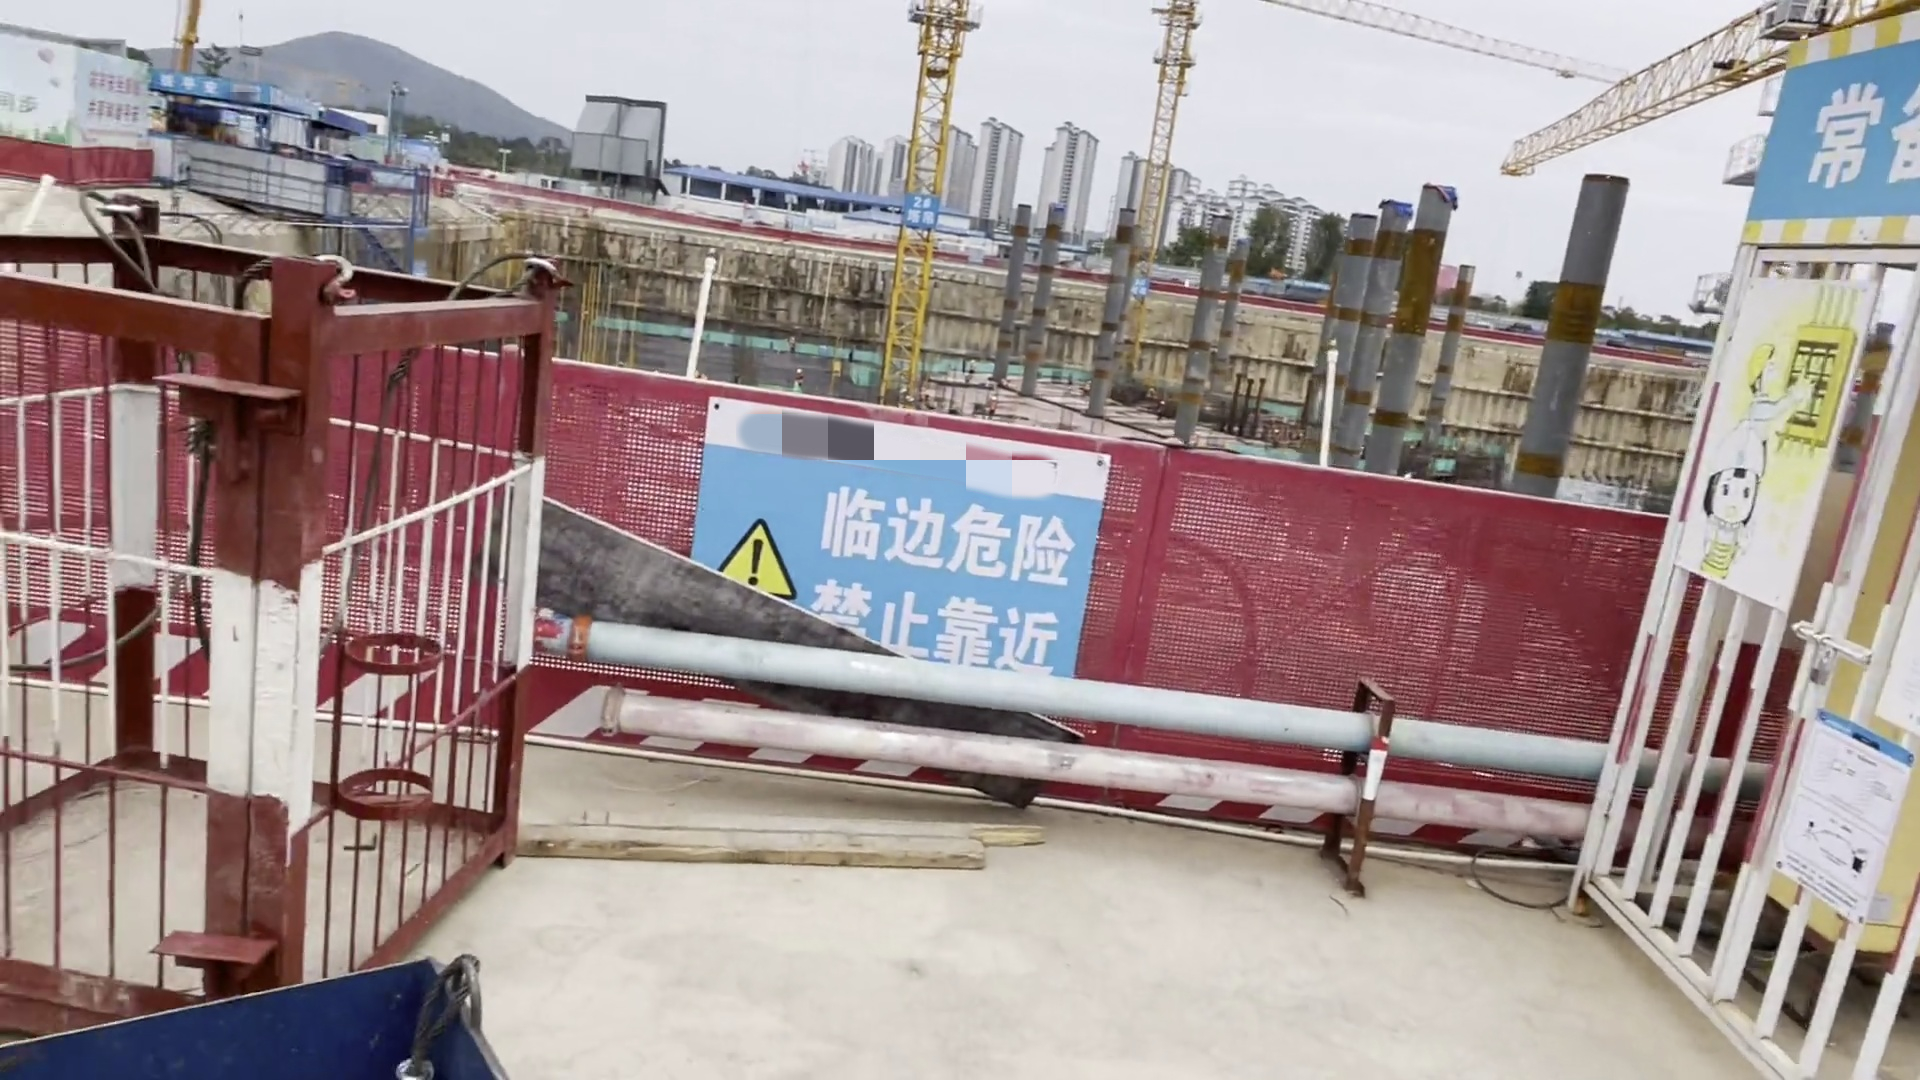fence: (1156, 438, 1712, 901), (538, 356, 1106, 800)
slogan: (735, 476, 1100, 655), (1797, 83, 1920, 199)
